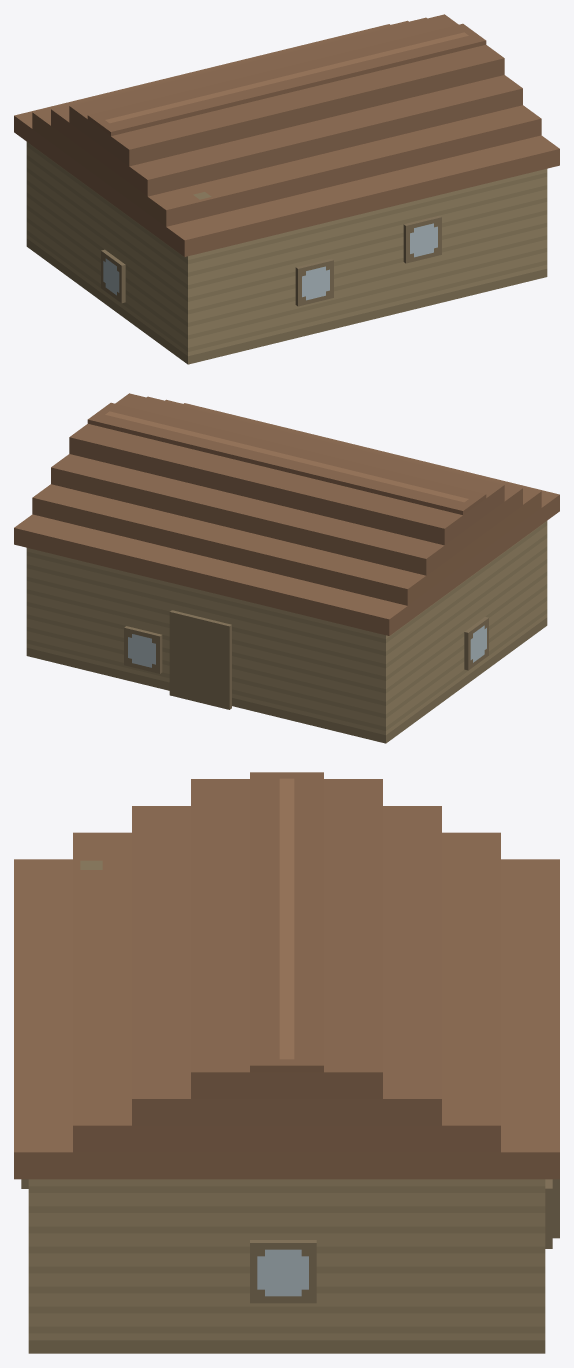
File: cocina_comunal_02.glb
3 renders of one model, top to bottom at view 1: azimuth 30°, elevation 25°; view 2: azimuth 150°, elevation 25°; view 3: azimuth 270°, elevation 25°, orthographic. The views are drawn at different scales.
Parts seen in each view (by area): view 1: cocina_comunal_02; view 2: cocina_comunal_02; view 3: cocina_comunal_02.
Boxes of the visible parts, bbox=[...] form: cocina_comunal_02: bbox=[14, 14, 559, 364]; cocina_comunal_02: bbox=[14, 393, 559, 743]; cocina_comunal_02: bbox=[14, 772, 559, 1353].
Bounding box in the file's own units: 9.4 × 4.4 × 7.4.
